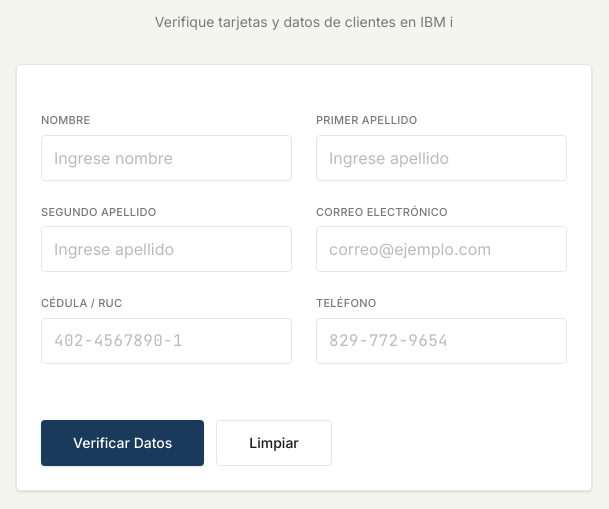
Test case: VerificacionView › limpia todos los campos al hacer clic en Limpiar
The image size is (609, 509).
Type "Juan" into the field with placeholder "Ingrese nombre" at x=166, y=158, box [41, 135, 292, 181]
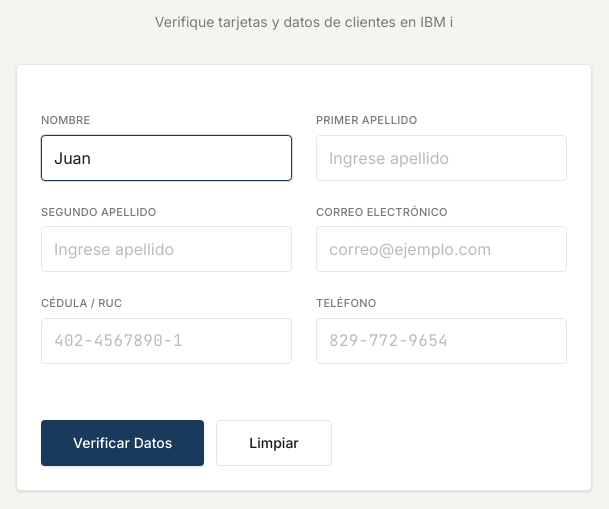
Type "12345678901" into the field with placeholder "402-4567890-1" at x=166, y=341, box [41, 318, 292, 364]
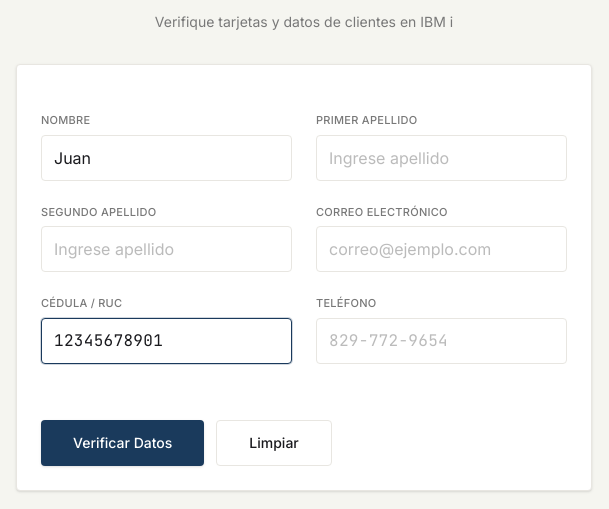
Click the button "Limpiar" at x=274, y=443, box [216, 420, 332, 466]
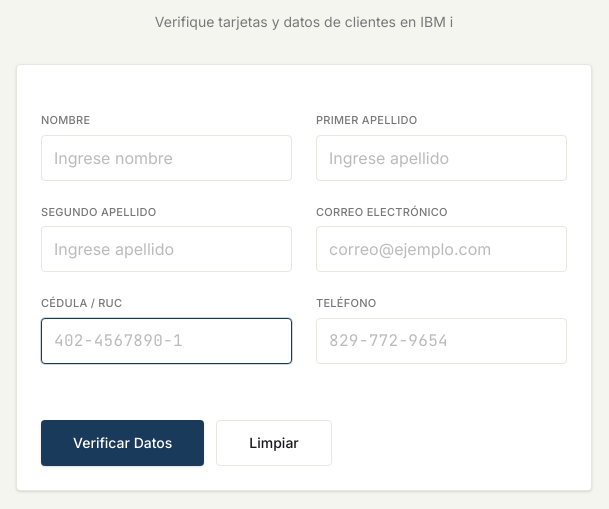
Result: the field with placeholder "Ingrese nombre" is empty at [41, 135, 292, 181]
Result: the field with placeholder "402-4567890-1" is empty at [41, 318, 292, 364]
